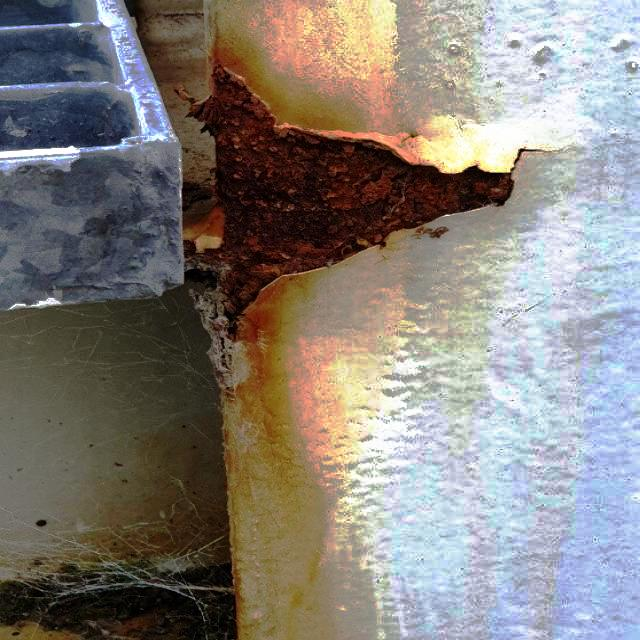Corrosion: (176, 54, 561, 397)
